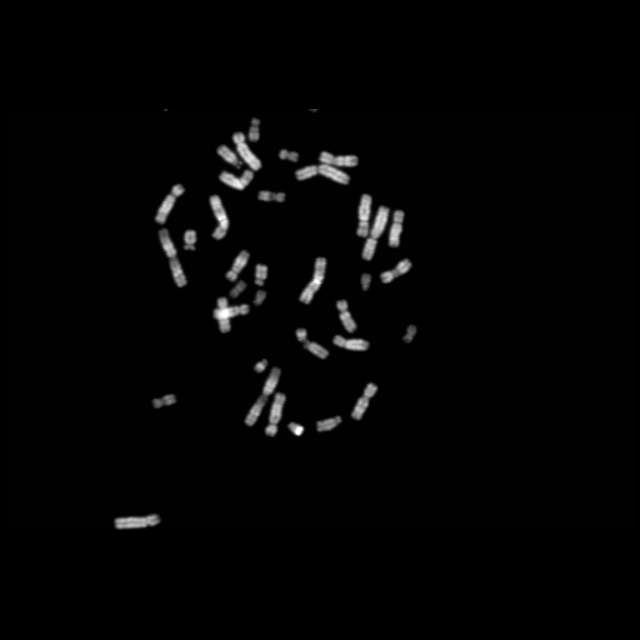chromosome: (245, 368, 280, 428), (159, 228, 187, 288), (362, 206, 390, 260), (155, 184, 185, 224), (300, 258, 326, 304), (233, 132, 261, 170), (352, 382, 378, 420), (296, 164, 348, 183), (296, 329, 328, 359), (209, 195, 229, 239), (266, 393, 286, 437), (226, 250, 250, 282), (381, 259, 411, 283), (220, 170, 254, 190), (338, 300, 357, 332), (388, 210, 404, 248), (320, 150, 358, 166), (357, 195, 371, 238), (218, 145, 242, 169), (116, 516, 162, 528), (213, 305, 249, 319), (334, 337, 368, 351), (218, 298, 230, 332), (318, 416, 342, 432), (152, 395, 175, 409), (248, 118, 260, 142), (259, 192, 285, 202), (230, 282, 246, 298), (288, 422, 304, 436), (256, 264, 266, 286), (184, 231, 196, 249), (280, 150, 298, 162), (255, 290, 268, 306), (255, 358, 267, 374), (404, 326, 416, 342), (362, 275, 370, 291)
